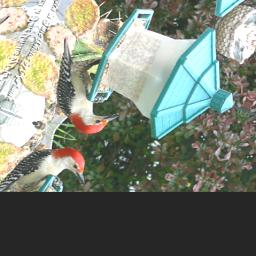Woodpecker: (28, 36, 144, 143)
